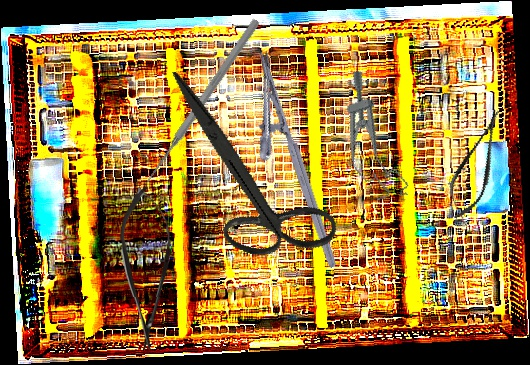Iris Scissors: (120, 71, 370, 281)
Micro Scissor: (438, 103, 516, 226), (119, 186, 174, 351)
Needle Holder: (228, 49, 339, 279)
Pusher: (141, 16, 262, 188)
Speculum: (325, 66, 412, 209)
